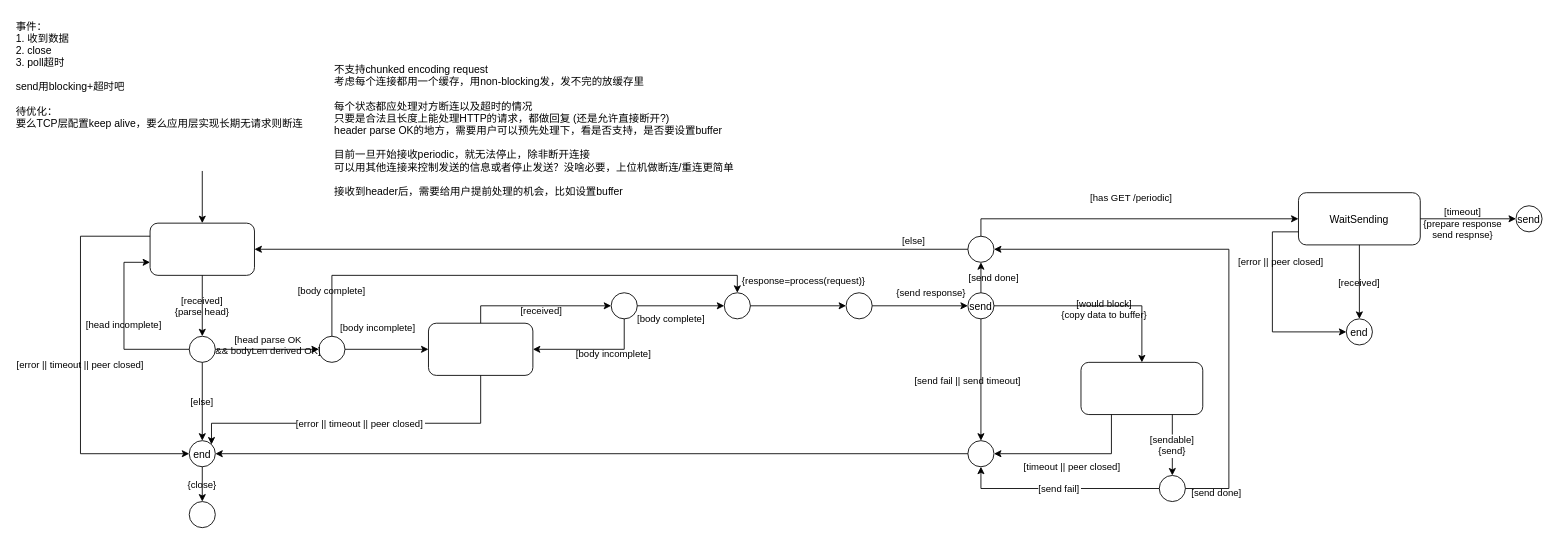
The diagram is 1556 pixels wide and 542 high, and some of its shapes have lost their labels. The shapes that lost their labels are listed below. From the top down, each one's centre as x and y in pixels, then its label:
the point at 201,248: ReceivingHead
the point at 480,348: ReceivingBody
the point at 1141,388: Sending
